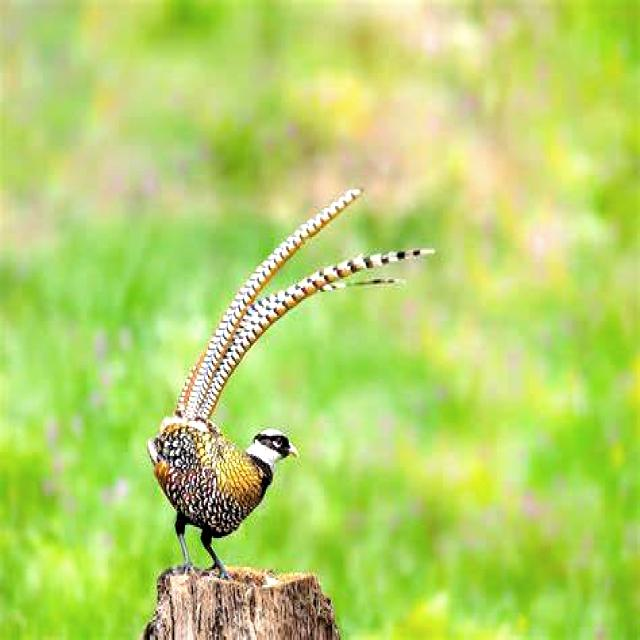Reeves-s Pheasant: (173, 188, 439, 420)
